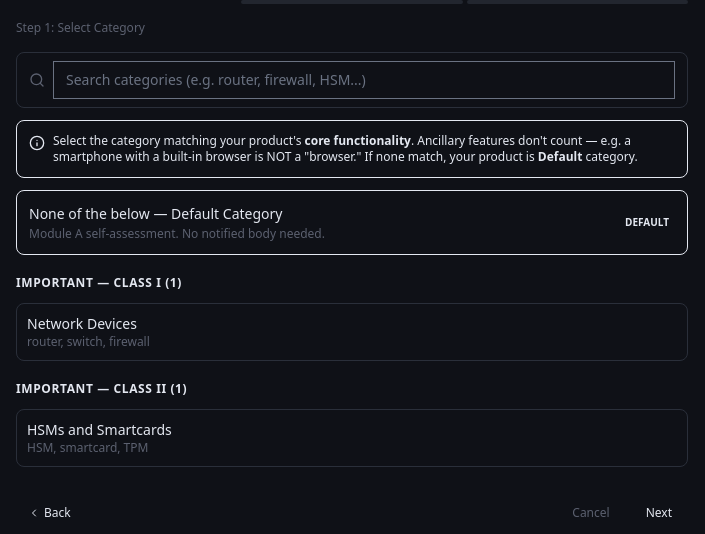
Test: CraClassificationWizard › search query hides non-matching categories
The width and height of the screenshot is (705, 534).
Expected: the text "Network Devices" is shown, left=27, top=314, right=137, bottom=333
In the field with placeholder "Search categories (e.g. router, firewall, HSM...)": (364, 80) left=53, top=61, right=675, bottom=99, type "HSM"
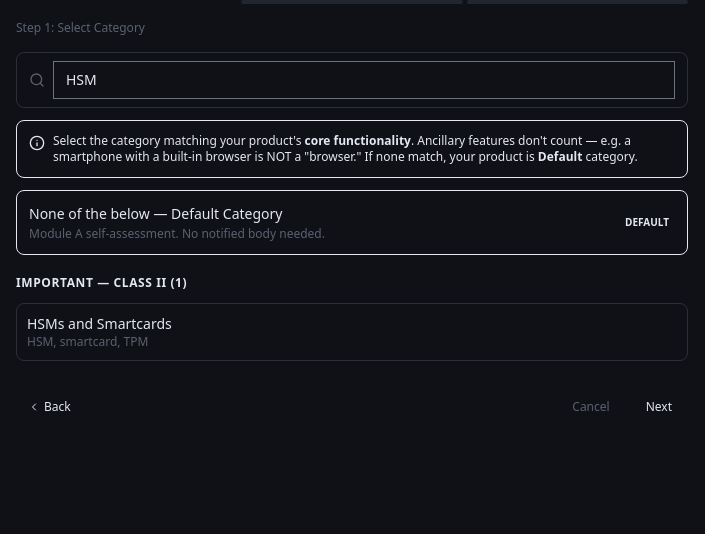
Expected: the text "HSMs and Smartcards" is shown, left=27, top=314, right=172, bottom=333
Expected: the button "Network Devices" is gone
